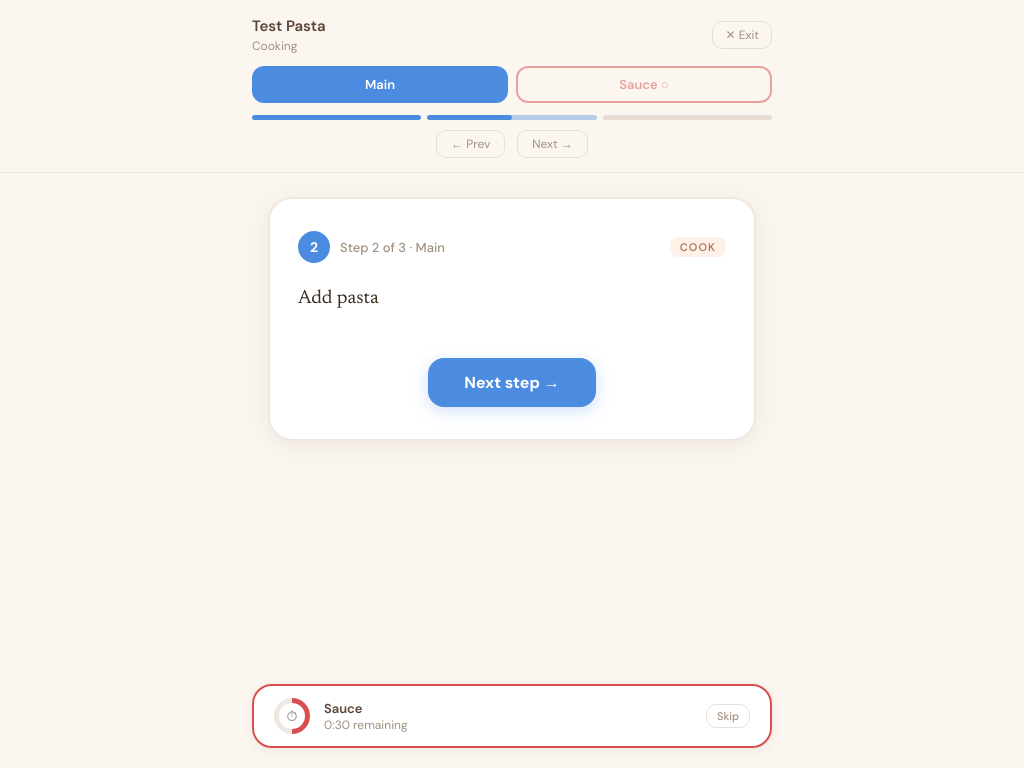
Test: CookingView › step review navigation › current step timer toast pill › shows both current step pill and other track pills simultaneously
This screenshot has width=1024, height=768.
Click the button "← Prev".
click(471, 144)  # box [436,130,505,158]
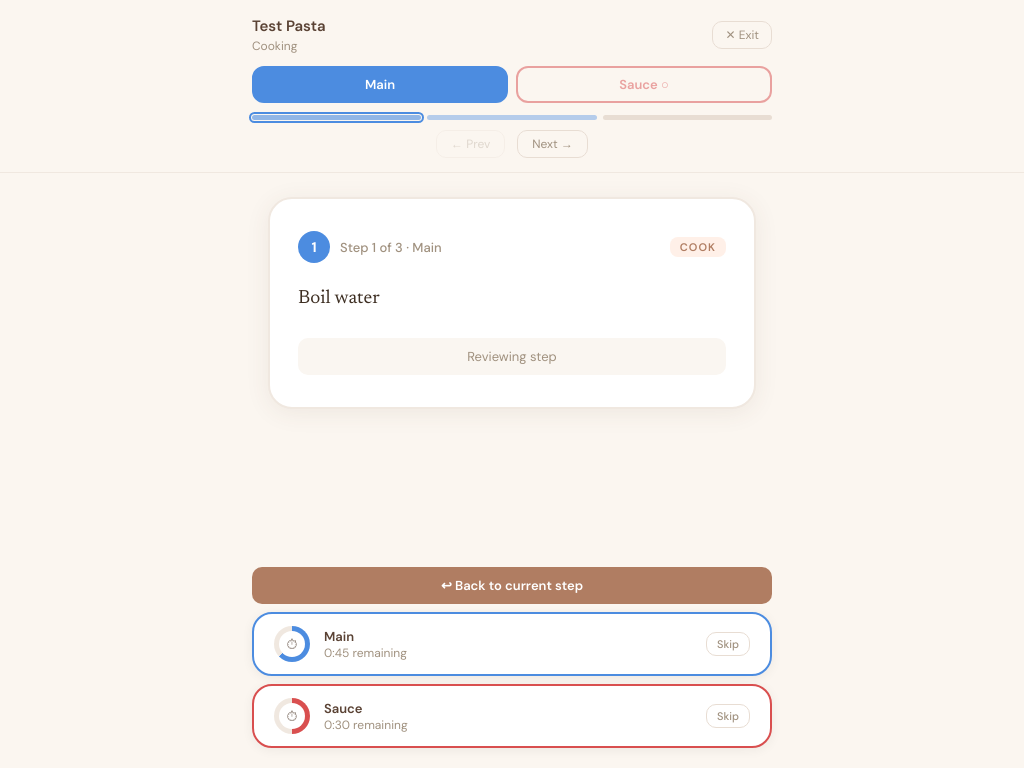
Result: the text "0:45 remaining" is shown 2 times at [324,644,407,660]; [324,716,408,732]
